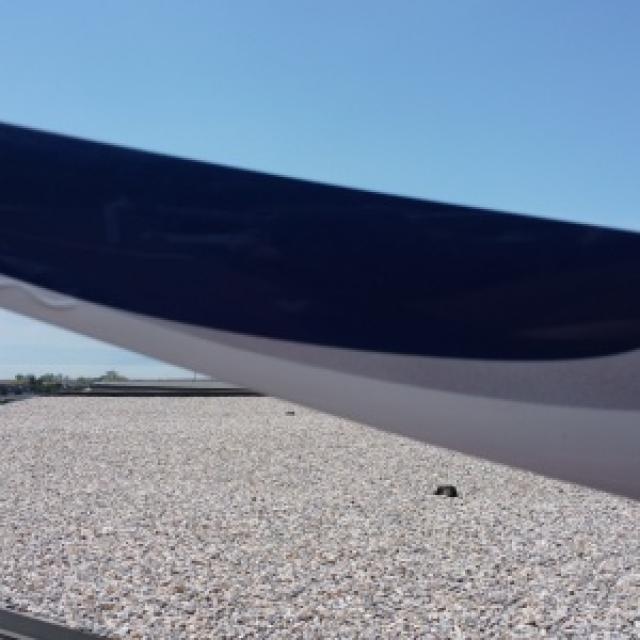healthy: (0, 122, 638, 497)
